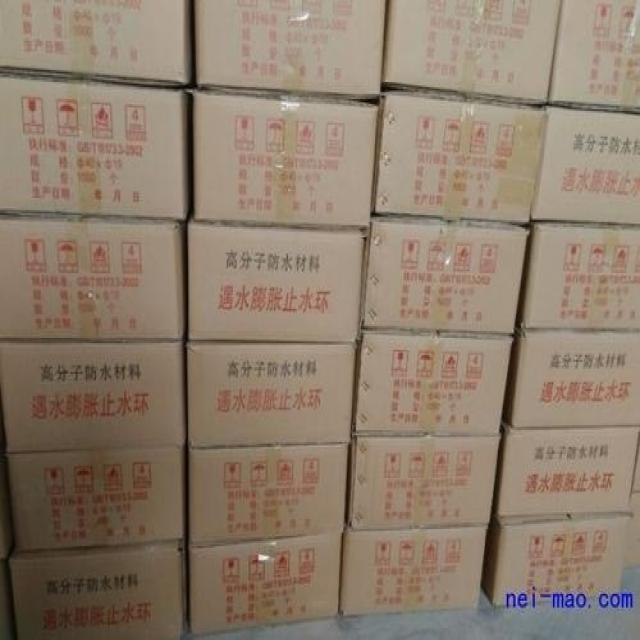Carton: (188, 445, 343, 633), (0, 72, 186, 220), (495, 335, 639, 521), (193, 97, 371, 218), (4, 224, 180, 341), (1, 343, 183, 456), (374, 97, 543, 217), (186, 225, 360, 335), (361, 220, 529, 328), (385, 0, 558, 102), (197, 0, 385, 92), (9, 539, 183, 638), (5, 454, 180, 550), (187, 343, 355, 440), (356, 336, 507, 439), (352, 435, 495, 524), (520, 225, 639, 329), (532, 109, 639, 220), (340, 531, 483, 611), (493, 521, 626, 601), (553, 2, 639, 104)
